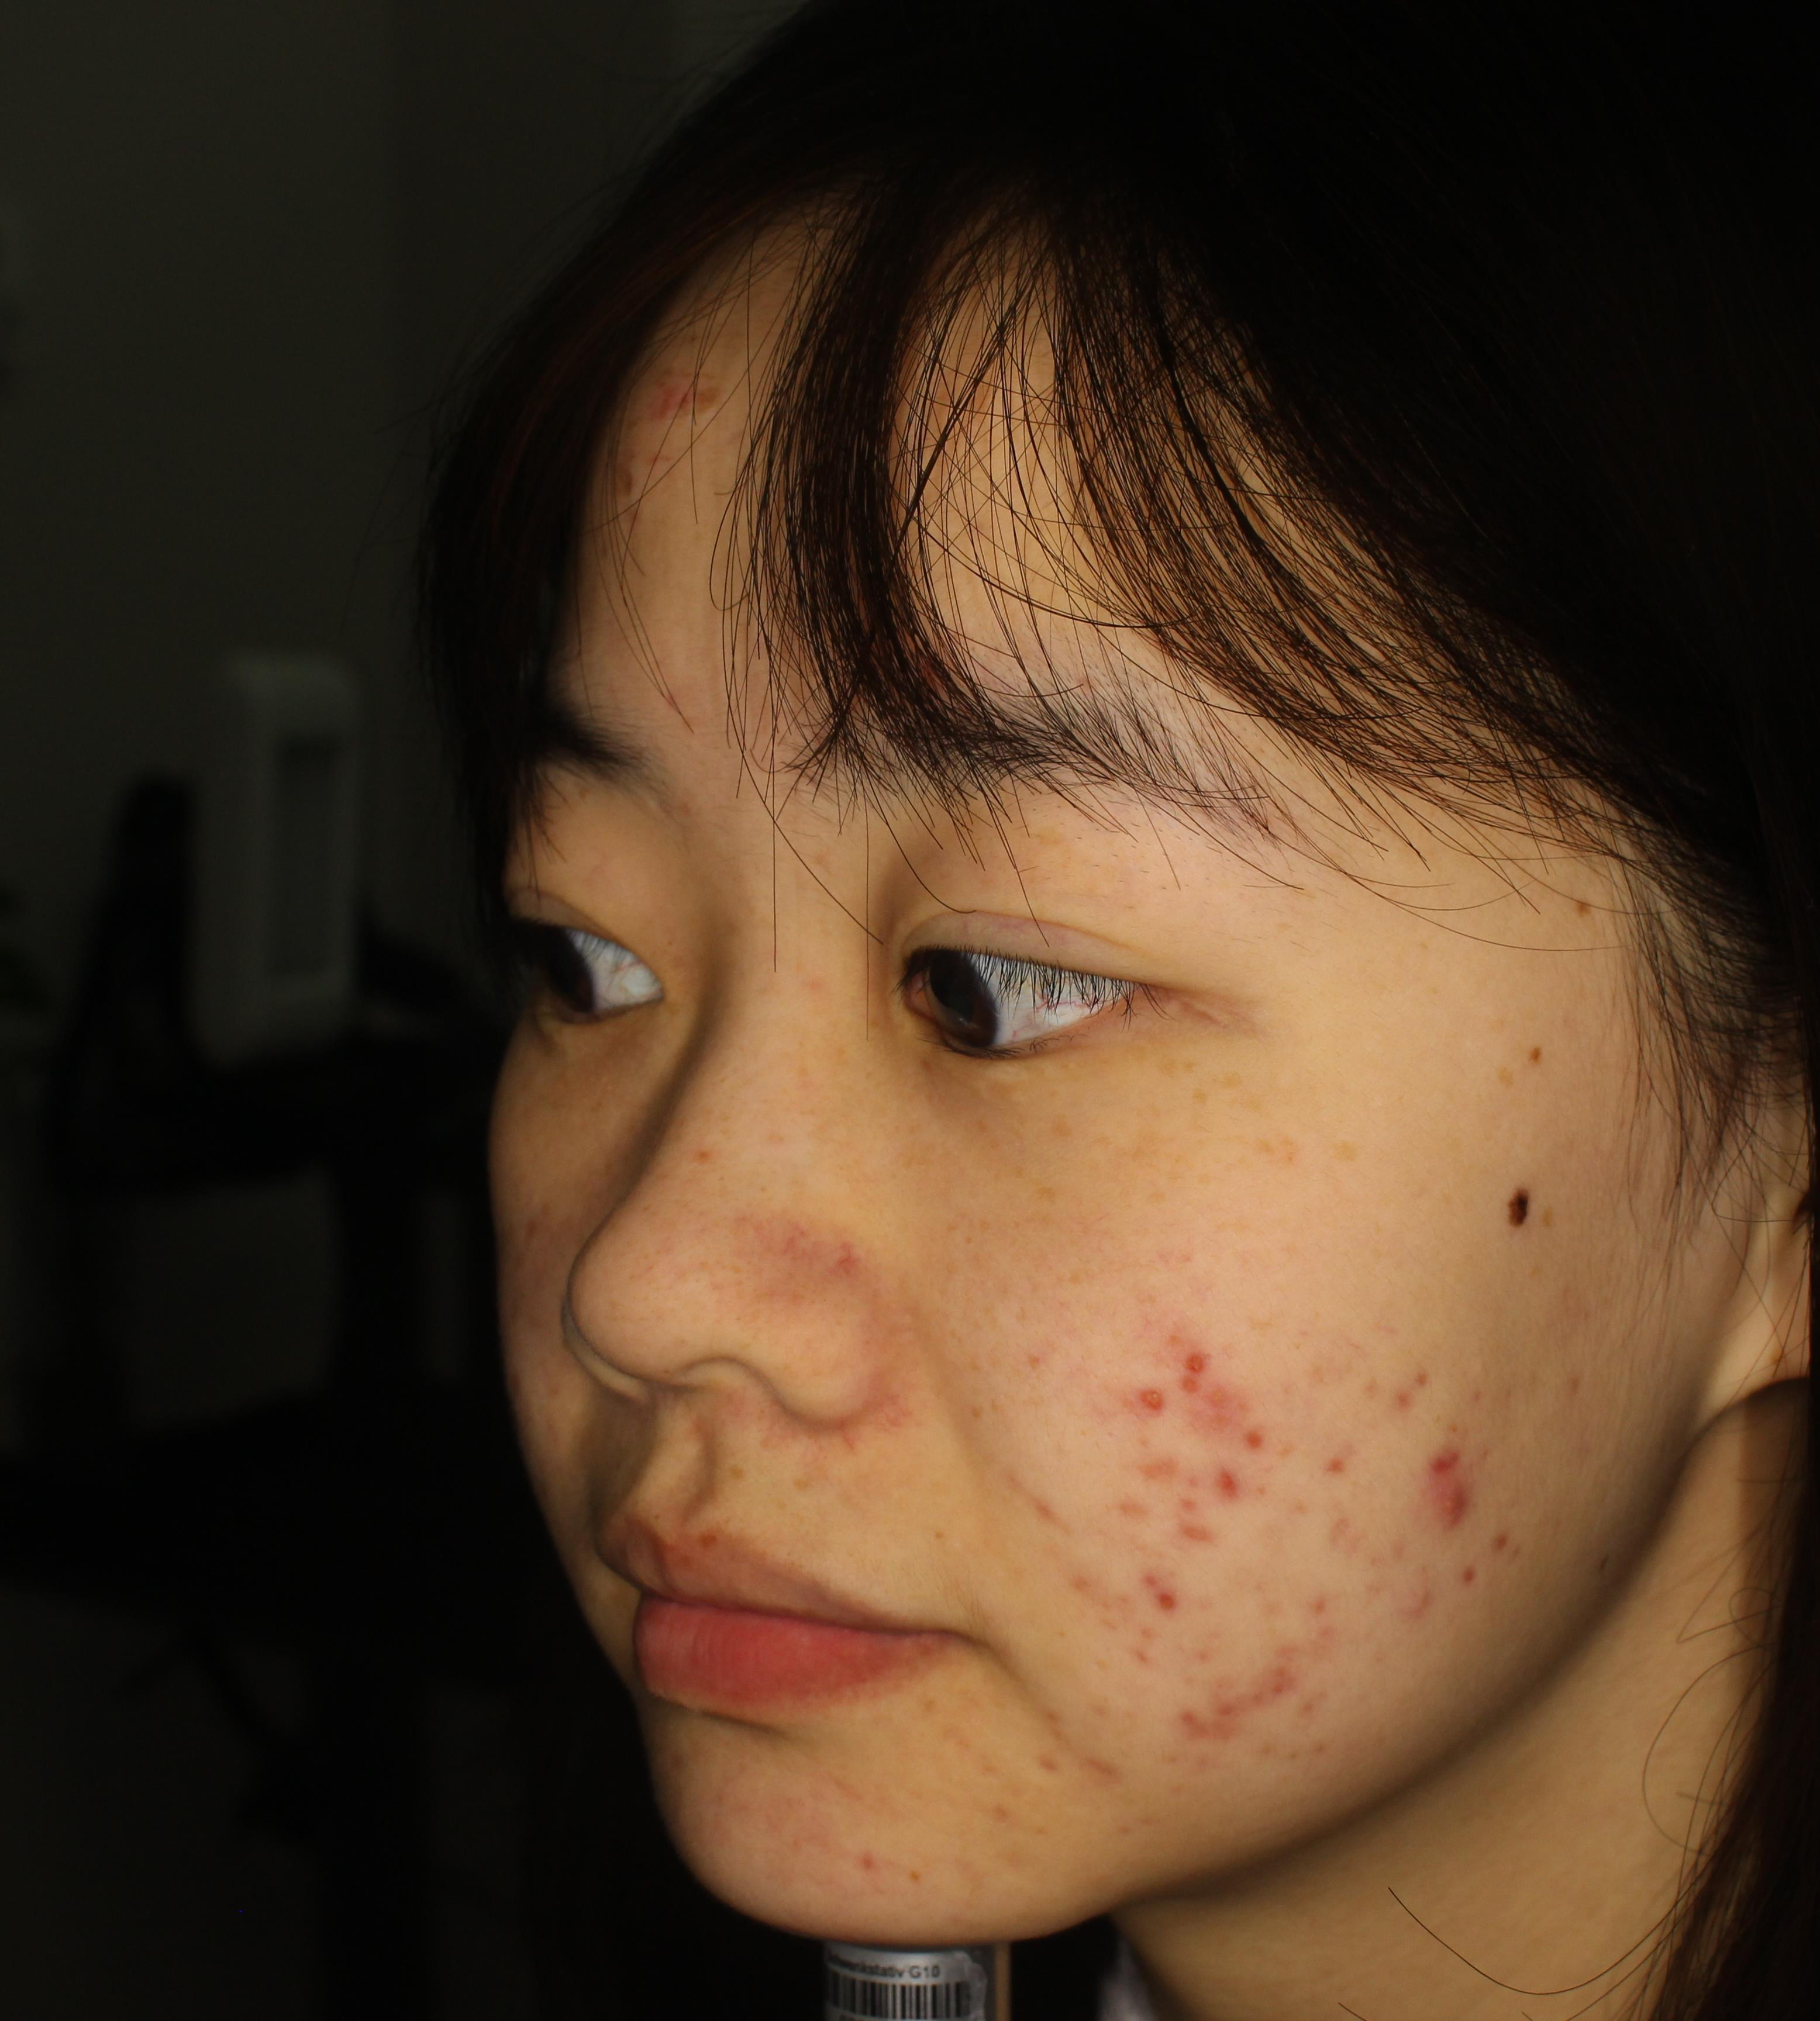fore: (1170, 1329, 1291, 1468), (1404, 1424, 1502, 1522), (1109, 1554, 1207, 1649), (1135, 1666, 1239, 1754), (1251, 1626, 1328, 1715), (1103, 1338, 1175, 1433), (1138, 1456, 1207, 1517)
